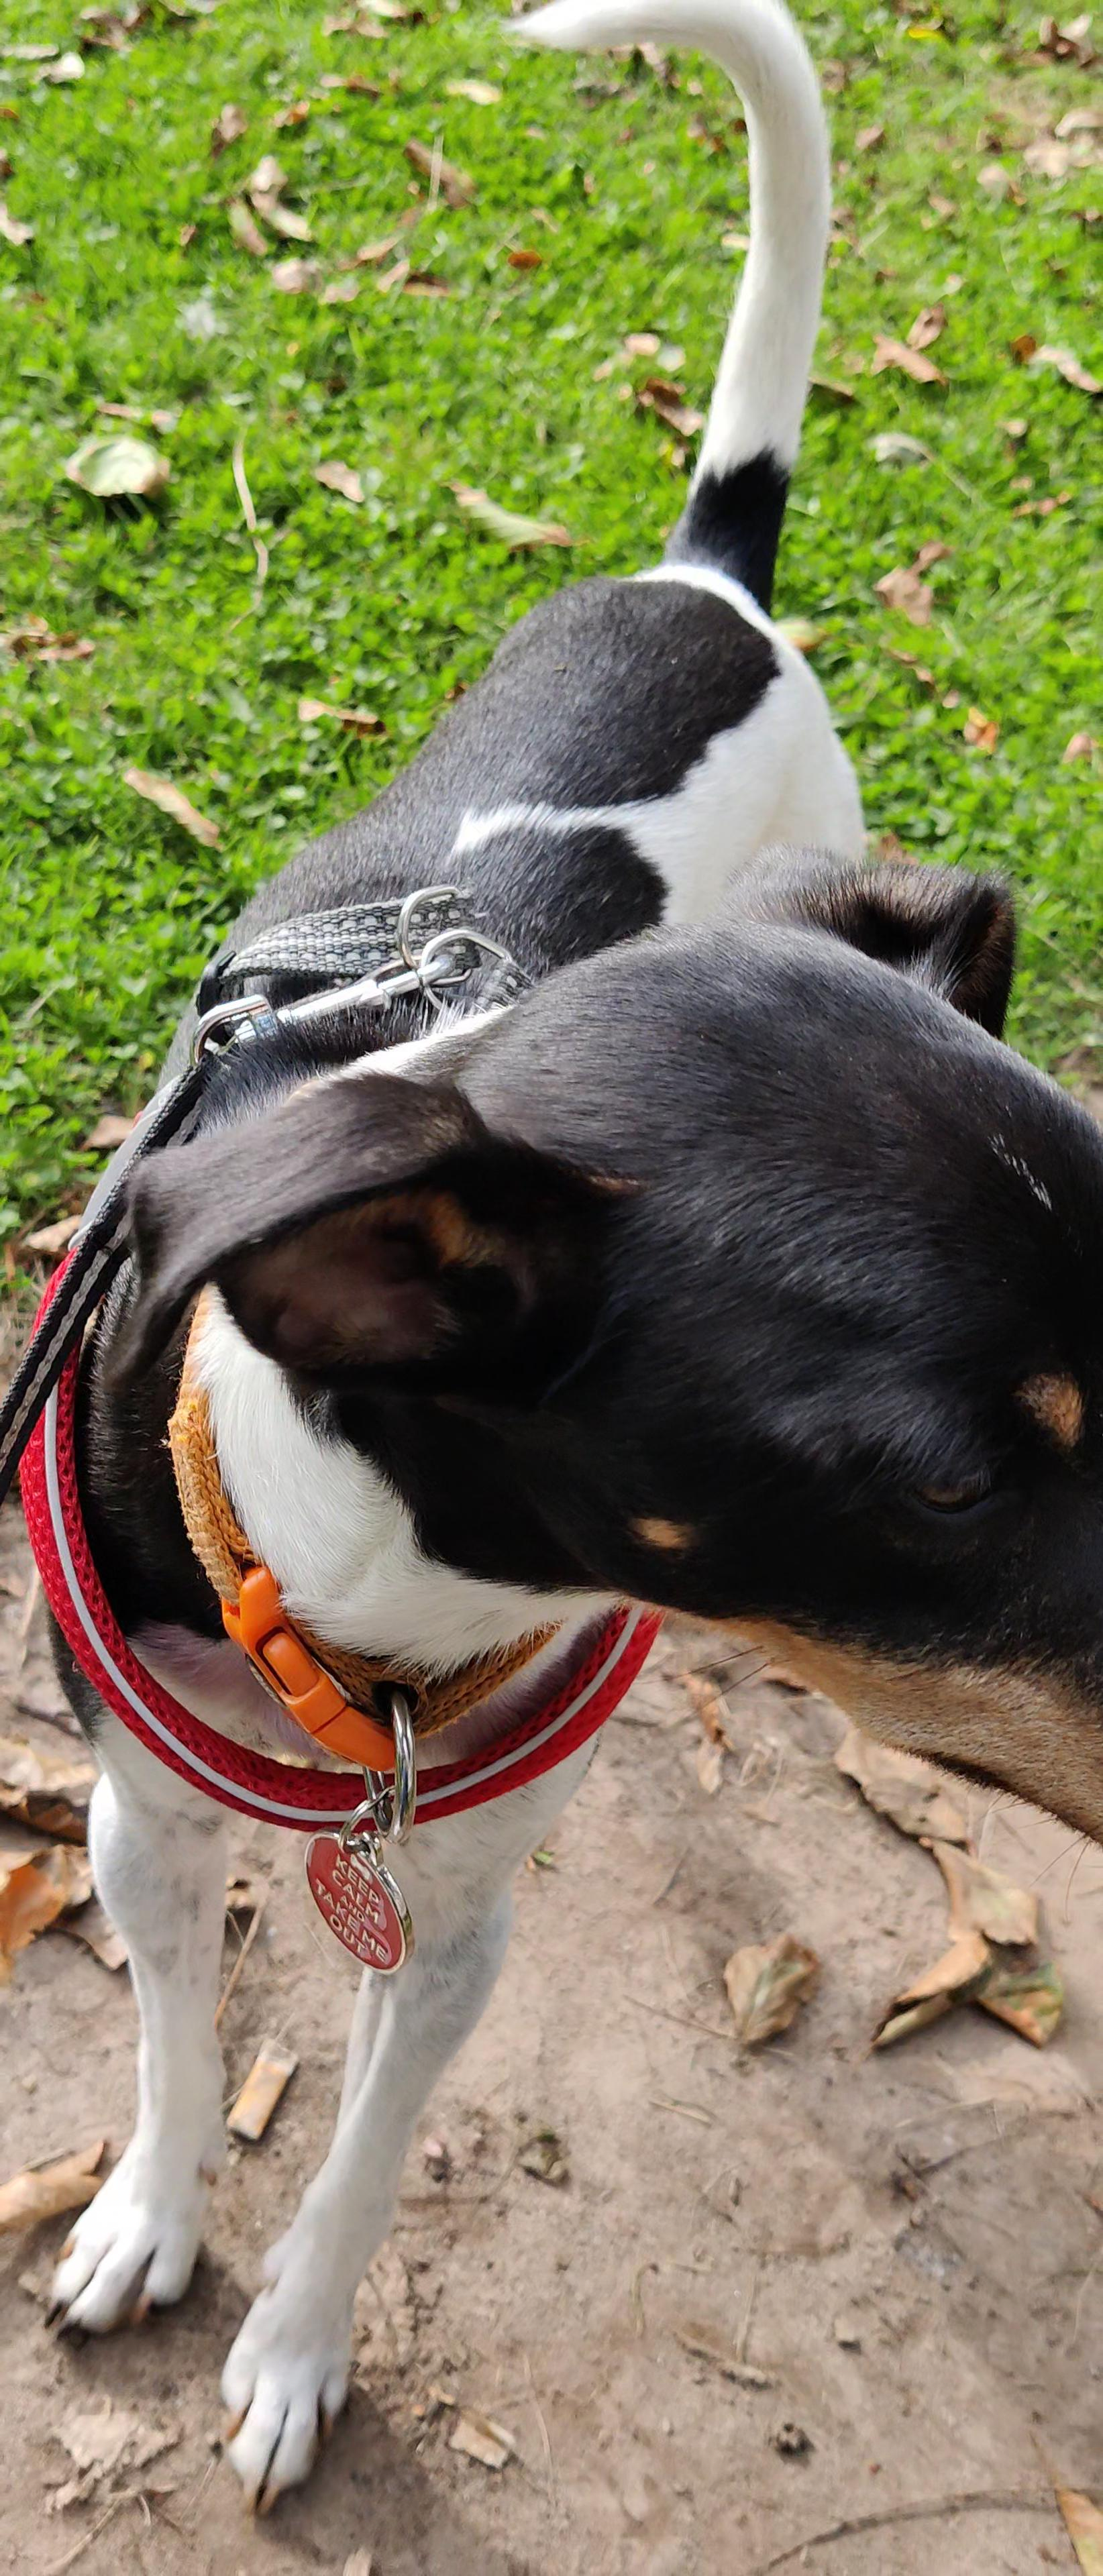Dog: (0, 0, 1103, 2517)
